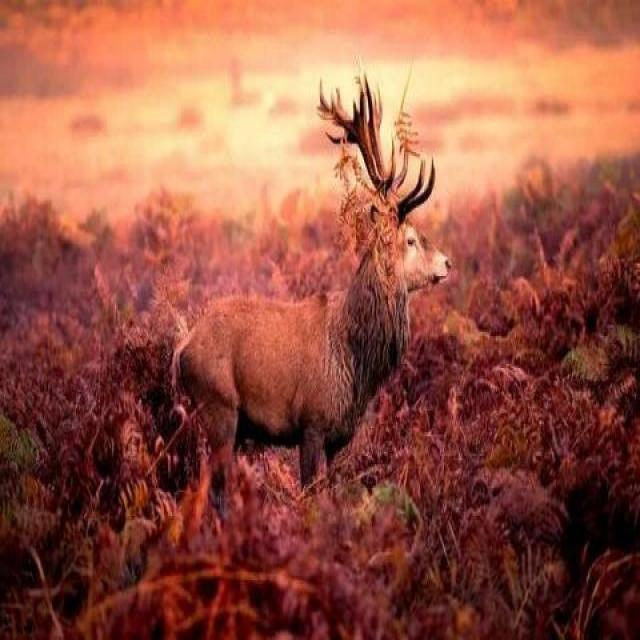deer: (185, 65, 499, 459)
